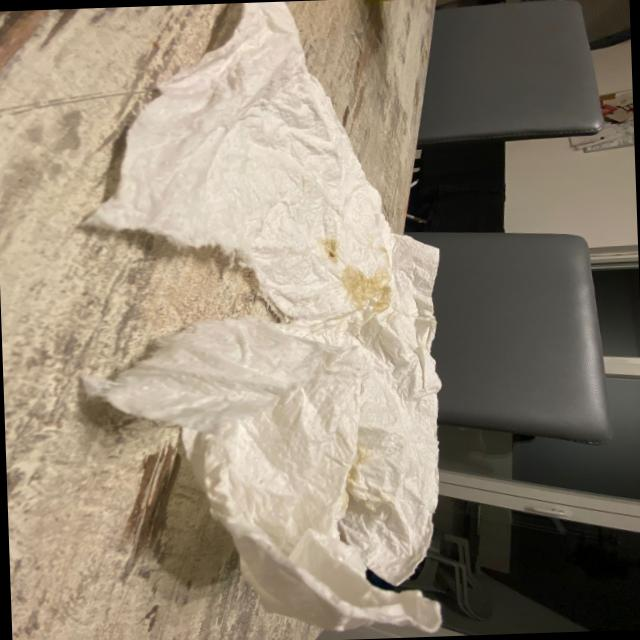organic waste: (72, 0, 456, 640)
